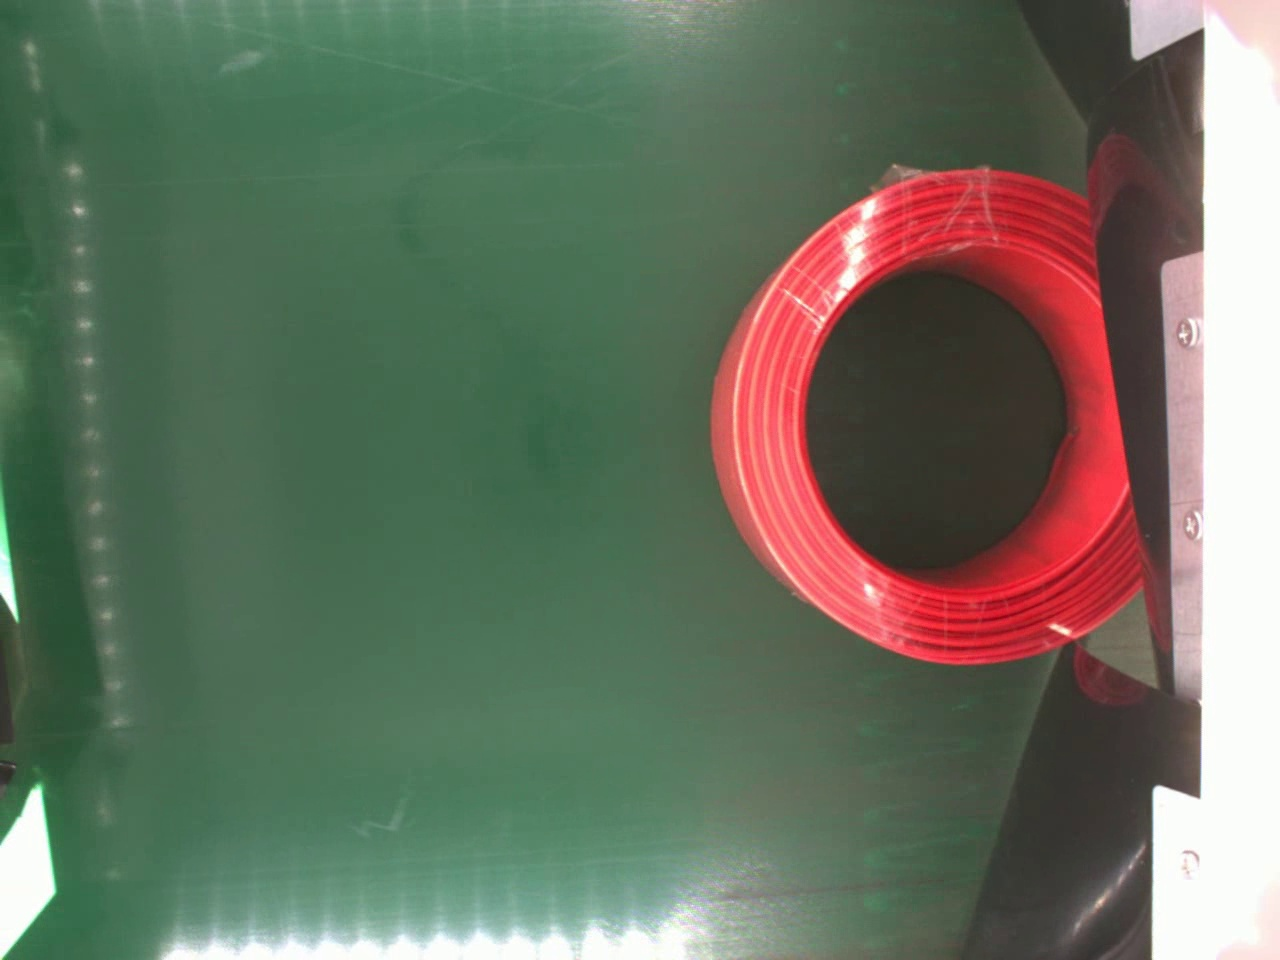red: (709, 164, 1151, 658)
